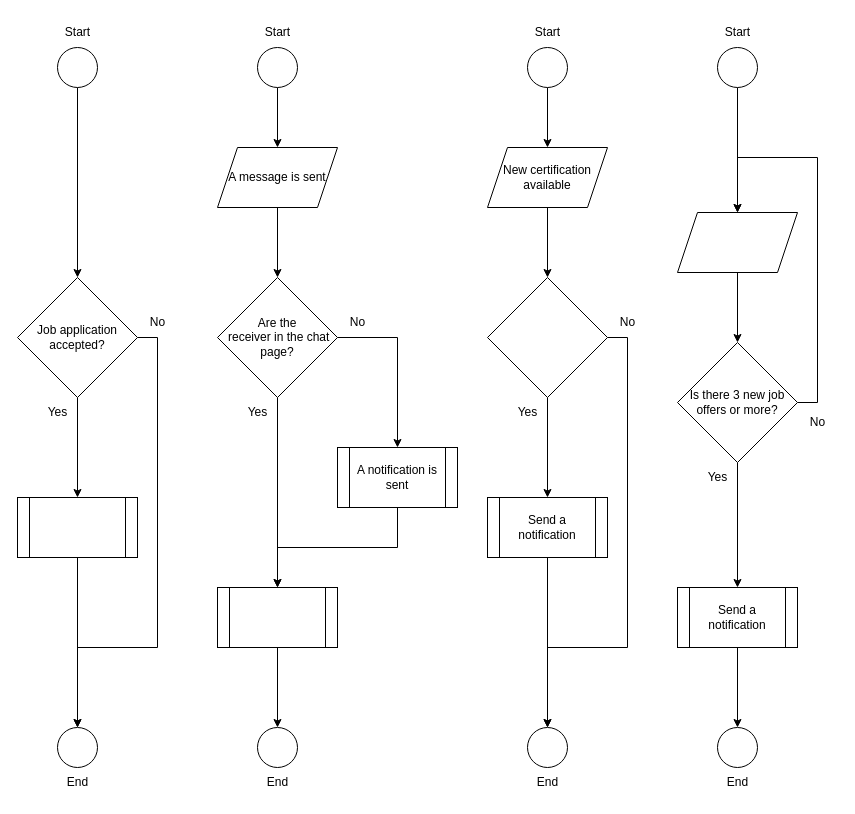
The diagram is 855 pixels wide and 814 high, and some of its shapes have lost their labels. The shapes that lost their labels are listed below. From the top down, each one's box as (x1, y1, x2, y2) in pixels, then its label:
(676, 212, 798, 272): New job offer available
(486, 276, 608, 398): Does the user have the soft skill associated selected?
(16, 496, 138, 558): advancement notification sent
(216, 586, 338, 648): The message is darkened
